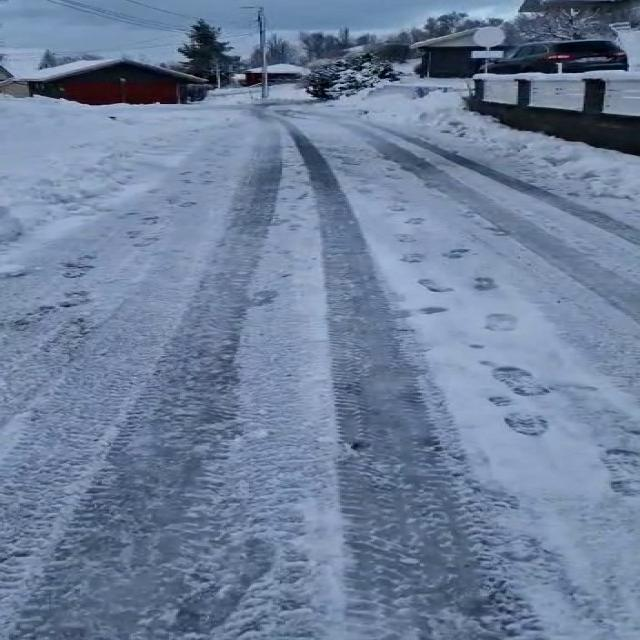path: (0, 103, 640, 640)
